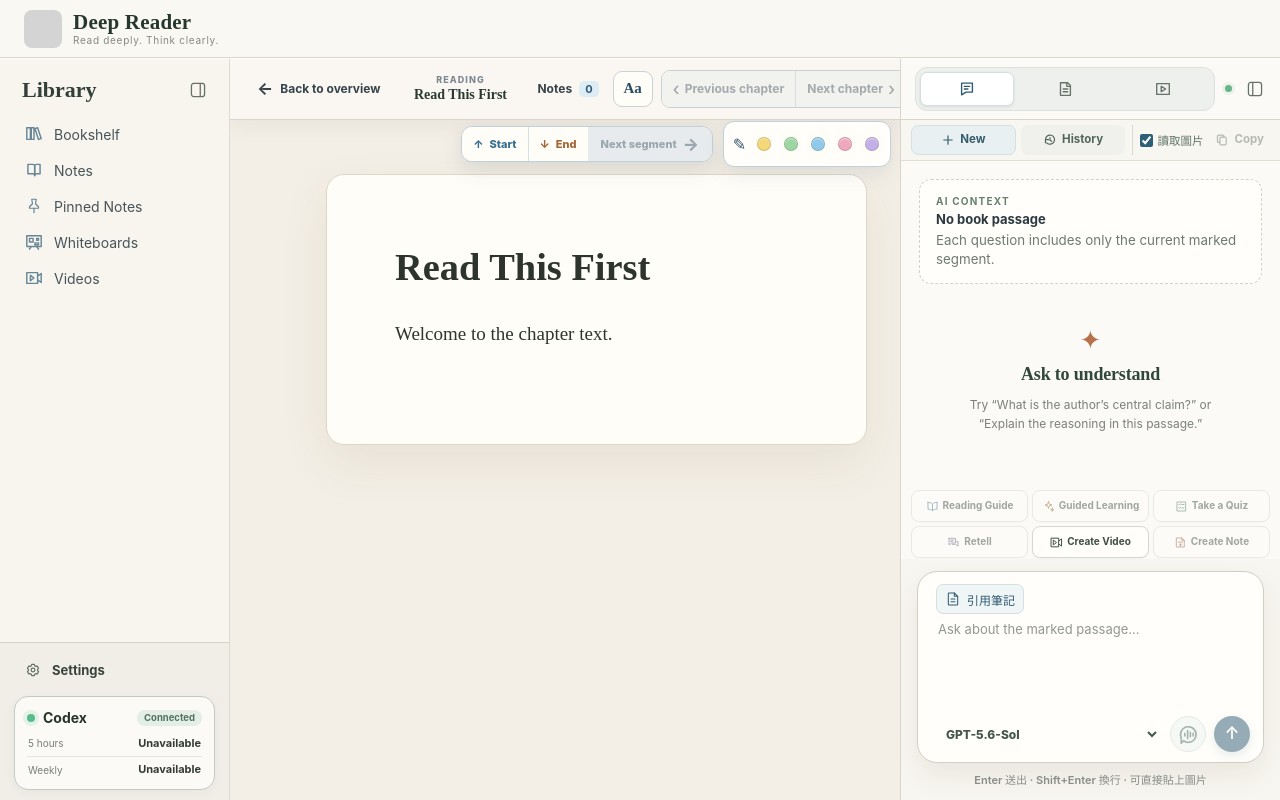
Test: video entry opens a fresh discussion without a selector, preserving the reading question and the active draft across library navigation
Check: the text "Welcome to the chapter text." is shown, box [395,323,612,344]
Step 1. Type "原本未送出的問題" into the text box named "Ask about the current reading range" → coordinates (1093, 668), box [936,620,1250,716]
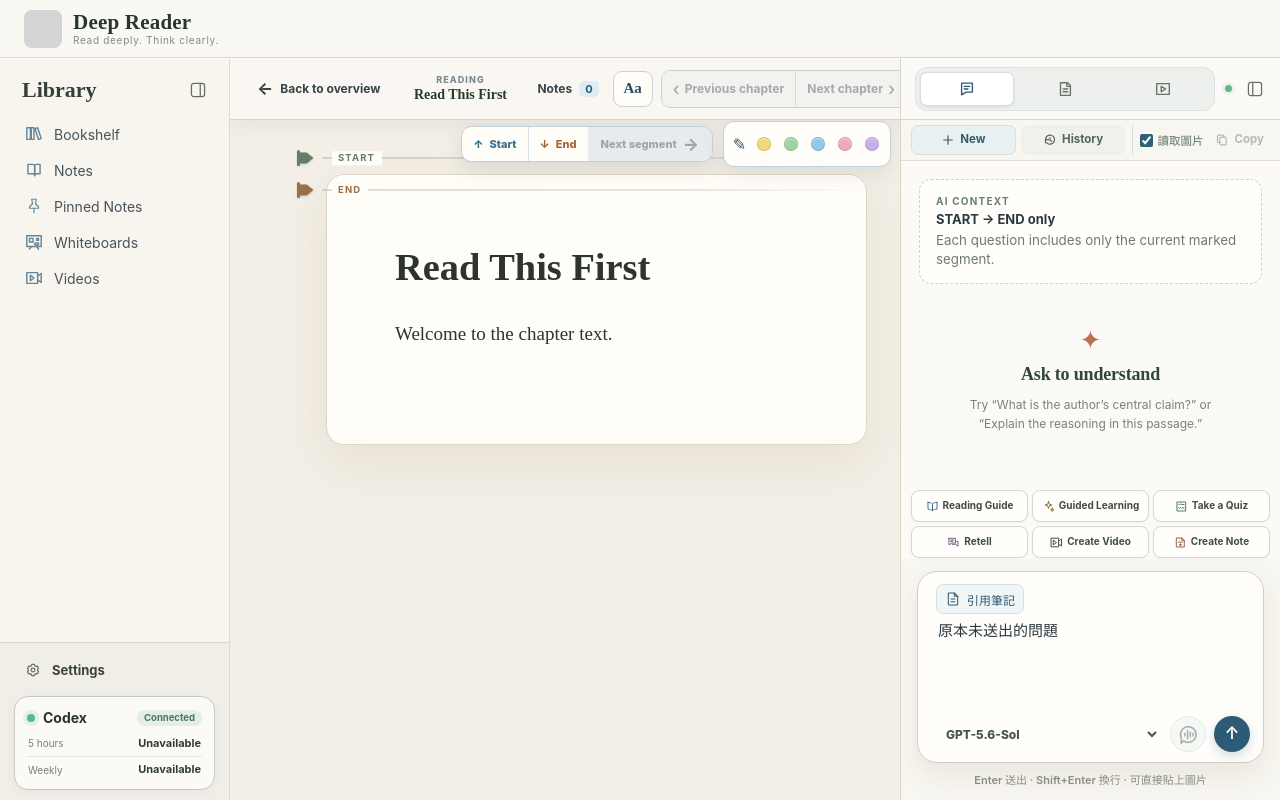
Step 2. Click the button "Create Video" → coordinates (1090, 542), box [1032,526,1149,558]
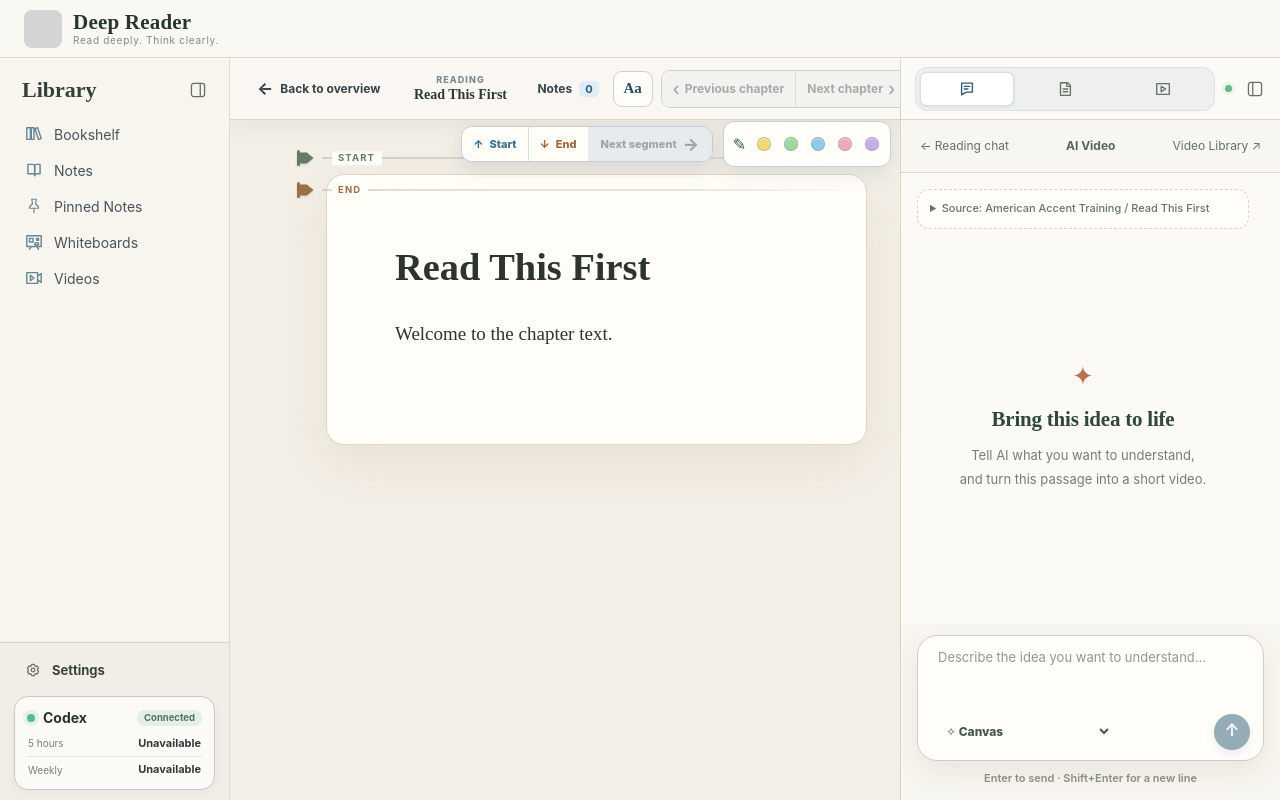
Check: the text "Welcome to the chapter text." is shown, box [395,323,612,344]
Step 3. Type "影片未送出的需求" into the text box named "Describe your video idea" → coordinates (1093, 681), box [936,648,1250,714]
Step 4. Click the button with aria-label "Back to reading chat" → coordinates (964, 146), box [913,128,1016,164]
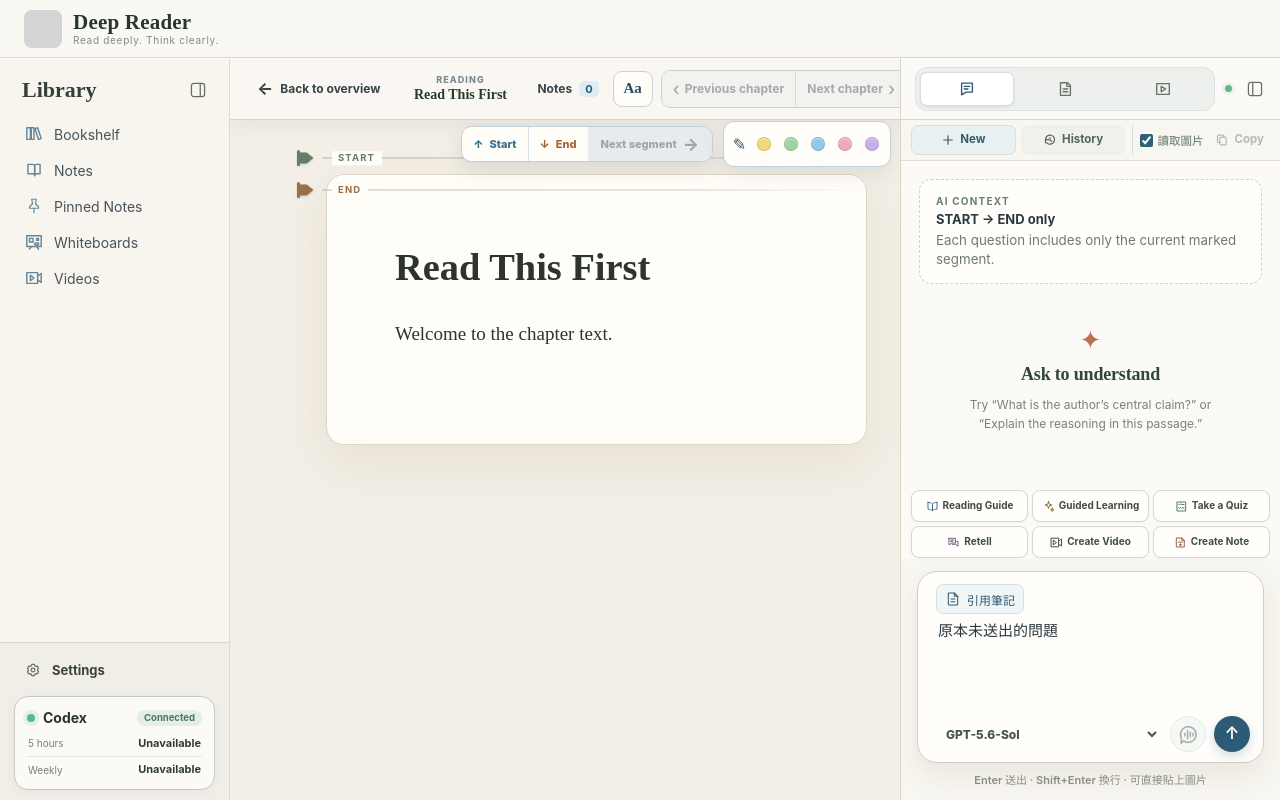
Step 5. Click the button "Create Video" → coordinates (1090, 542), box [1032,526,1149,558]
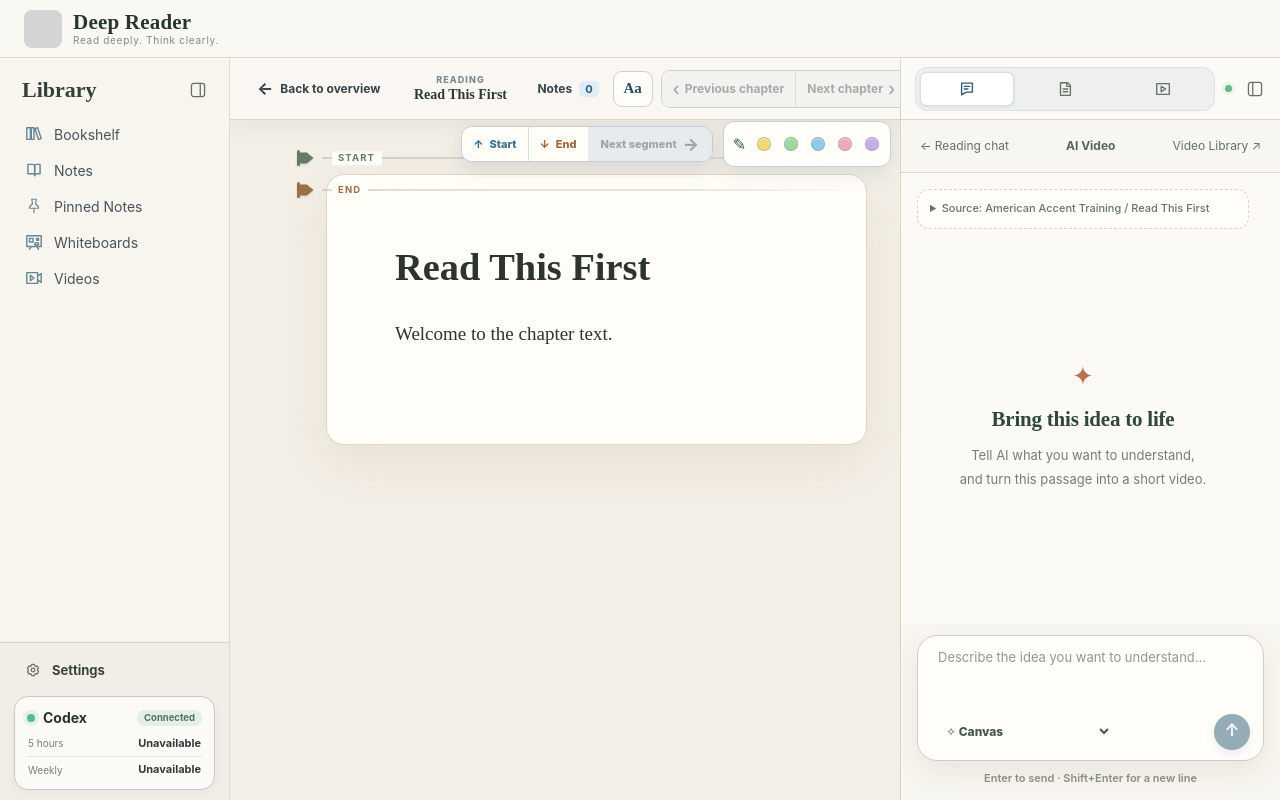
Check: the text box named "Describe your video idea" is empty
Step 6. Type "新的影片需求" into the text box named "Describe your video idea" → coordinates (1093, 681), box [936,648,1250,714]
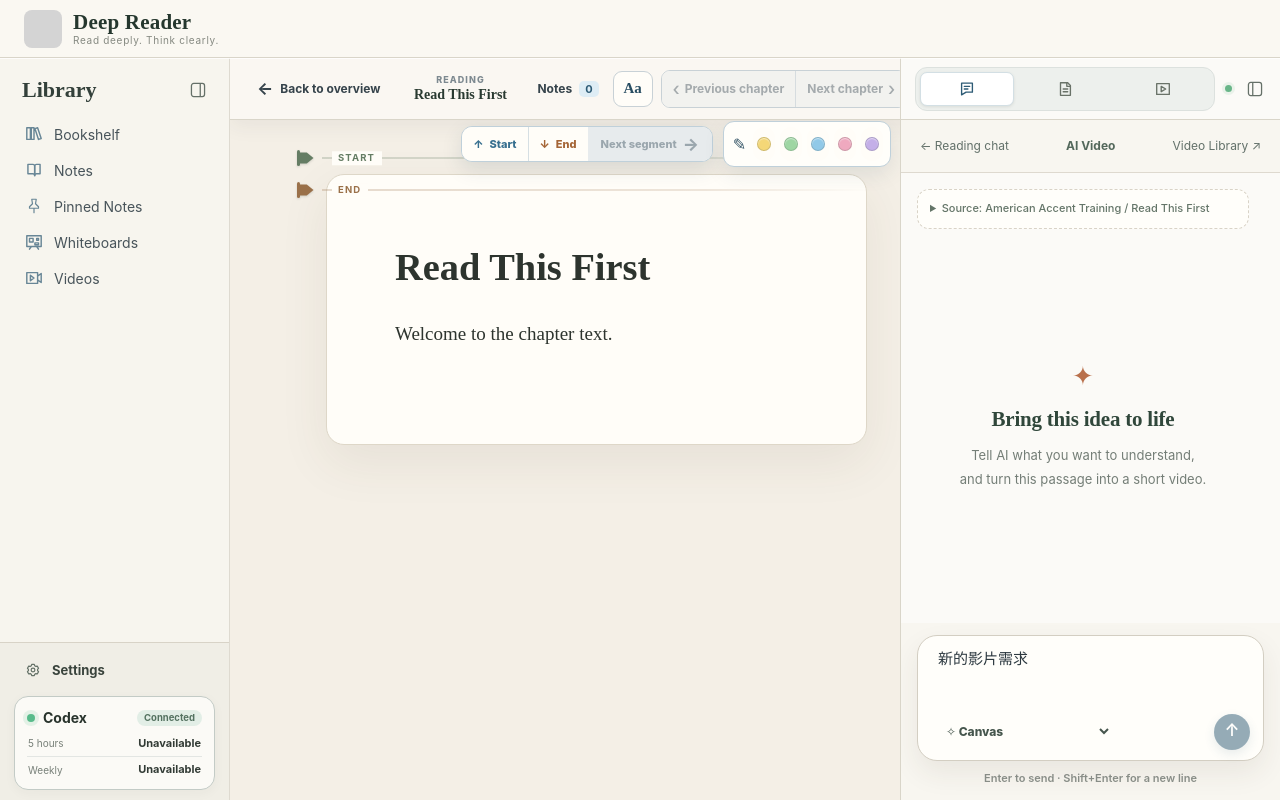
Step 7. Click the button with aria-label "Open Video Library" → coordinates (1217, 146), box [1166,128,1268,164]
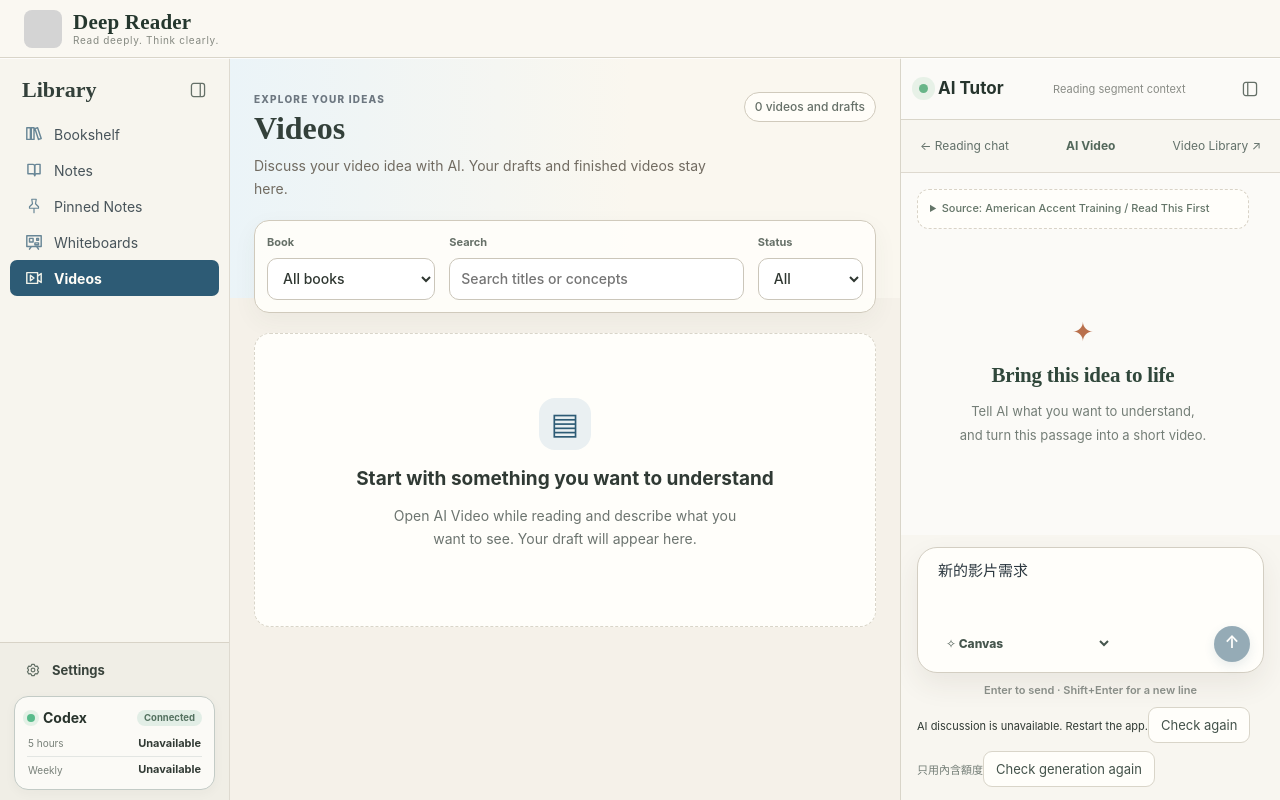
Check: the heading "Videos" is shown, box [254,110,345,146]
